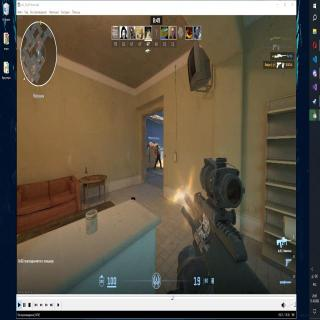T-Body: (154, 143, 162, 170)
T-Head: (156, 144, 160, 150)
